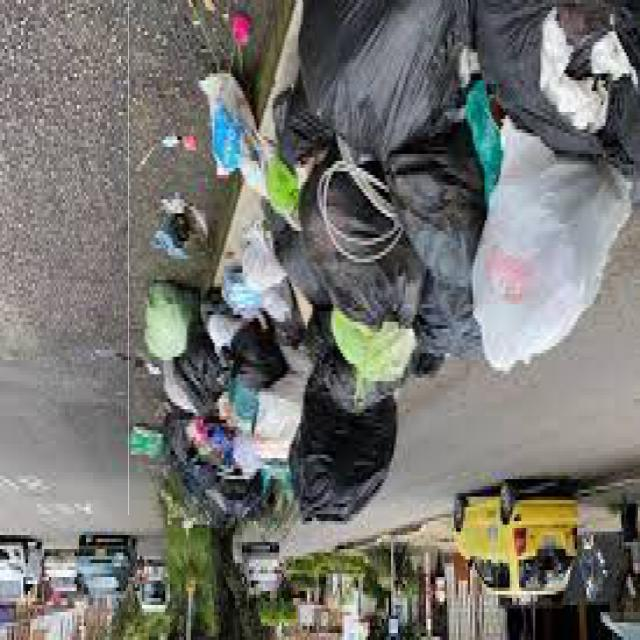Trashbag: (297, 6, 487, 160), (467, 5, 640, 167), (302, 170, 412, 326), (387, 143, 487, 281), (291, 408, 406, 524), (400, 278, 497, 372), (222, 320, 288, 398), (163, 408, 205, 472)
